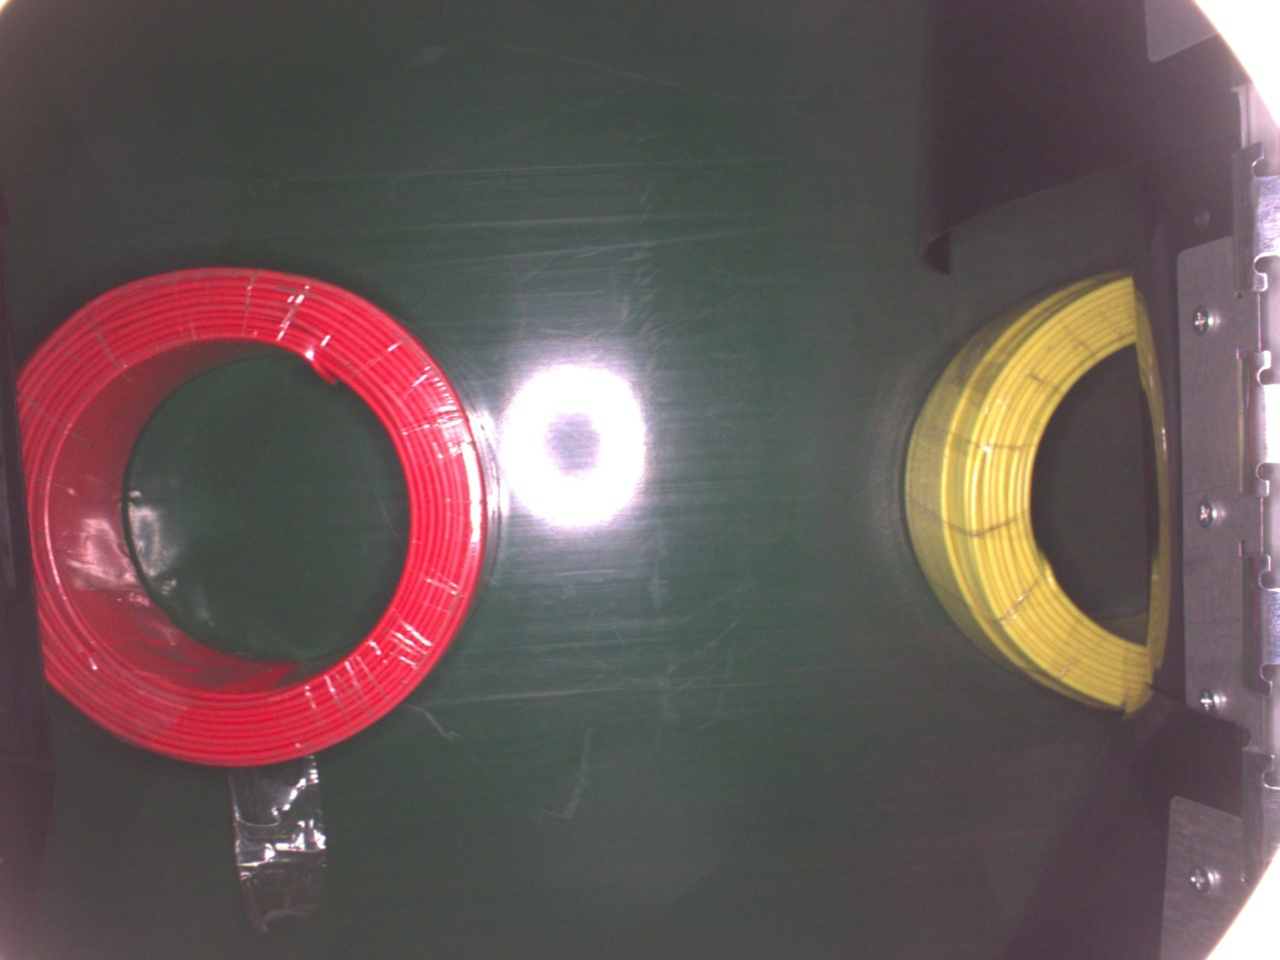red: (15, 261, 489, 769)
yellow: (901, 264, 1162, 715)
